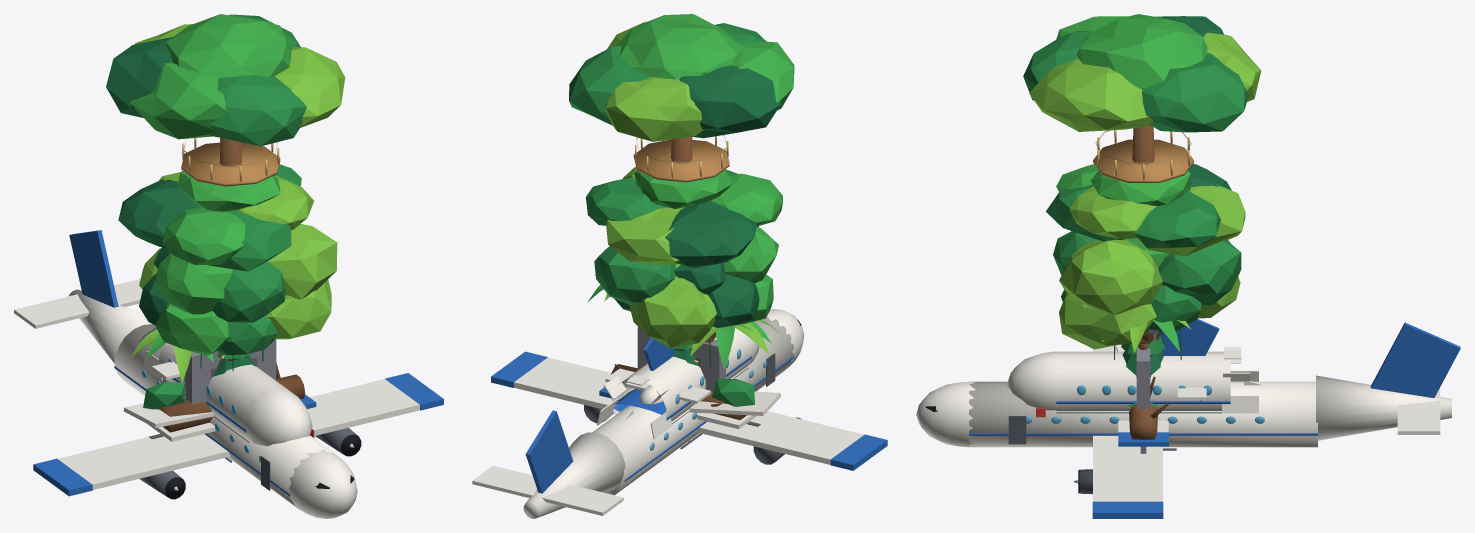
Rendered from models.glb.
The picture shows the model from 3 angles, left to right: view 1: azimuth 30°, elevation 25°; view 2: azimuth 150°, elevation 25°; view 3: azimuth 270°, elevation 25°; orthographic projection. The views are drawn at different scales.
Parts seen in each view (by area): view 1: plane_fly_m, lookout_m, jtree_b_m, jtree_a_m, jtree_c_m, plane_front_m, fallen_tree_m, gate_m, palm_b_m, plane_wing_m, pine_m; view 2: plane_fly_m, lookout_m, jtree_b_m, jtree_c_m, plane_front_m, jtree_a_m, plane_tail_m, fallen_tree_m, gate_m, palm_b_m, plane_wing_m; view 3: plane_fly_m, lookout_m, jtree_b_m, plane_front_m, jtree_a_m, jtree_c_m, plane_tail_m, fallen_tree_m, gate_m, plane_wing_m, pine_m, palm_a_m.
Boxes of the visible parts, <box> form: plane_fly_m: <box>14,230,443,518</box>; lookout_m: <box>106,14,345,361</box>; jtree_b_m: <box>118,164,313,271</box>; jtree_a_m: <box>153,224,337,360</box>; jtree_c_m: <box>139,248,331,371</box>; plane_front_m: <box>123,343,312,446</box>; fallen_tree_m: <box>143,362,305,432</box>; gate_m: <box>185,339,276,404</box>; palm_b_m: <box>130,327,213,383</box>; plane_wing_m: <box>148,394,316,441</box>; pine_m: <box>207,351,255,409</box>; plane_fly_m: <box>472,309,887,518</box>; lookout_m: <box>569,14,794,363</box>; jtree_b_m: <box>586,167,782,268</box>; jtree_c_m: <box>614,274,773,367</box>; plane_front_m: <box>597,328,780,439</box>; jtree_a_m: <box>594,227,778,305</box>; plane_tail_m: <box>605,338,710,407</box>; fallen_tree_m: <box>611,364,754,419</box>; gate_m: <box>637,327,725,391</box>; palm_b_m: <box>690,319,779,369</box>; plane_wing_m: <box>599,387,756,429</box>; plane_fly_m: <box>916,322,1460,518</box>; lookout_m: <box>1023,14,1261,356</box>; jtree_b_m: <box>1046,164,1245,256</box>; plane_front_m: <box>1007,345,1258,413</box>; jtree_a_m: <box>1053,231,1241,359</box>; jtree_c_m: <box>1059,276,1240,360</box>; plane_tail_m: <box>1160,318,1219,401</box>; fallen_tree_m: <box>1129,376,1169,439</box>; gate_m: <box>1136,348,1150,409</box>; plane_wing_m: <box>1118,420,1168,446</box>; pine_m: <box>1121,335,1164,406</box>; palm_a_m: <box>1102,319,1191,352</box>.
Bounding box in the file's own units: 22.2 × 24.31 × 28.07.
